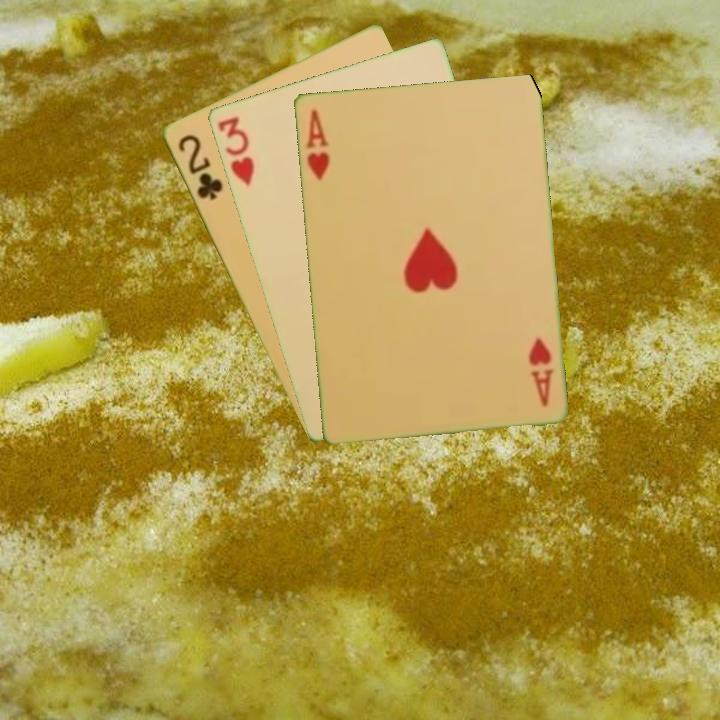2c: (173, 130, 226, 203)
3h: (213, 113, 257, 189)
Ah: (524, 333, 556, 409), (302, 105, 332, 183)
